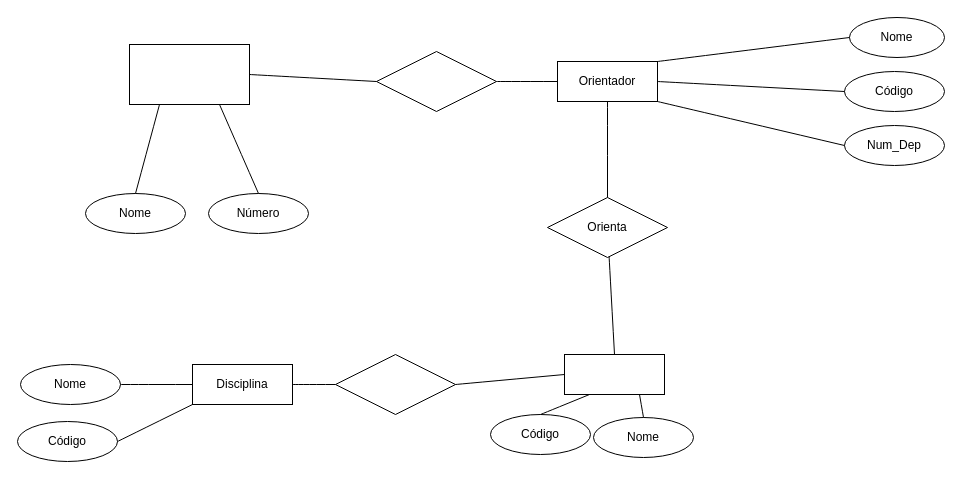
Image size: 962x479. Some labels were removed from this diagram. Here are the shapes that lost their labels. From the top down, the box of each, then its label:
(128, 44, 250, 104): Departamento
(376, 50, 496, 112): Trabalha
(334, 354, 456, 414): Estuda
(564, 354, 664, 394): Aluno
